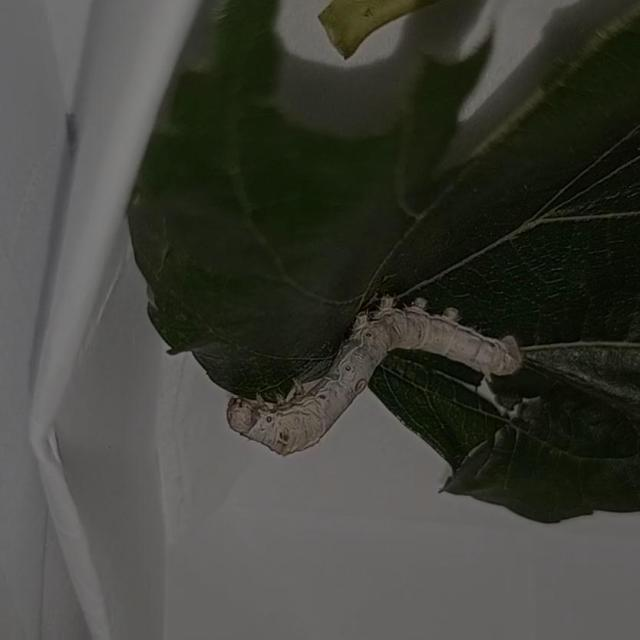Healthy: (195, 270, 552, 486)
